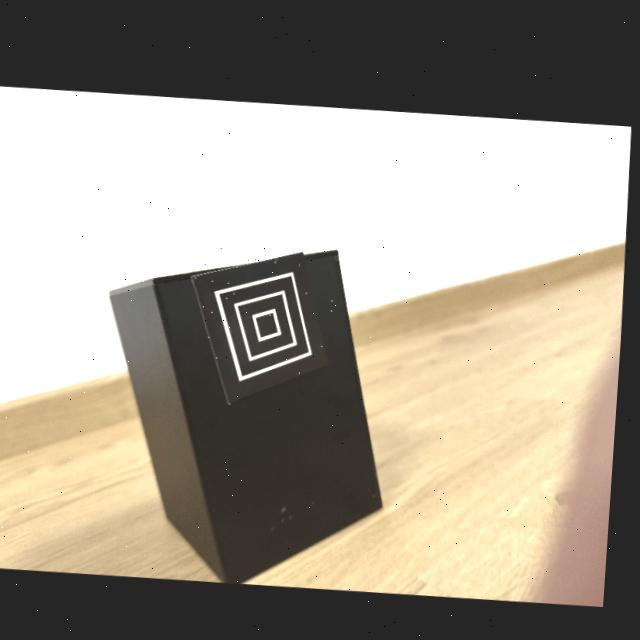BULLSEYE: (195, 246, 336, 400)
